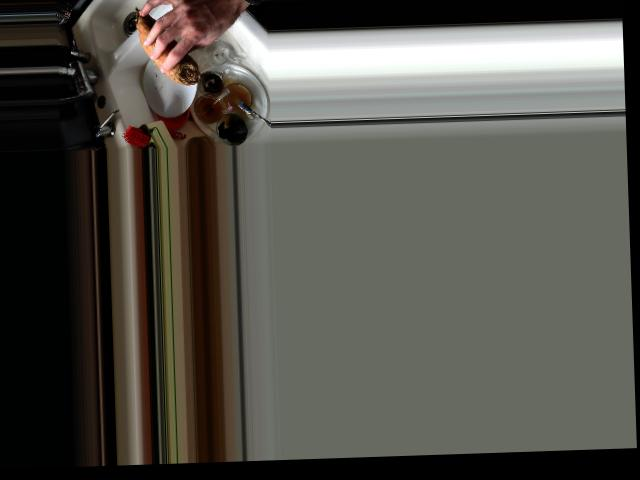sweet_potato: (135, 4, 199, 84)
